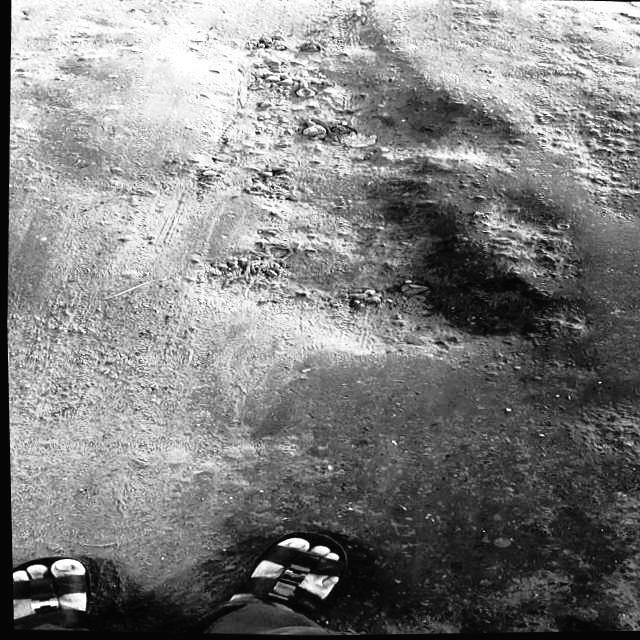Pothole: (281, 216, 558, 356), (277, 44, 504, 179)
